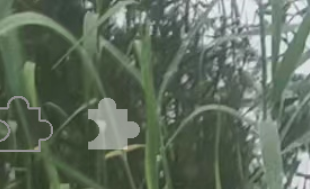target: (85, 97, 143, 152)
